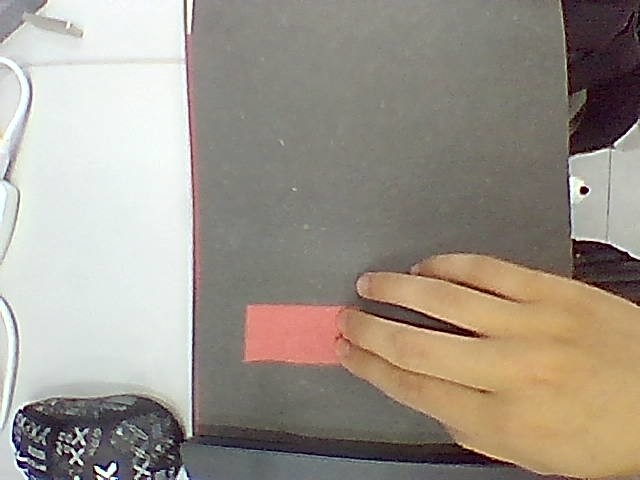card: (245, 304, 340, 363)
